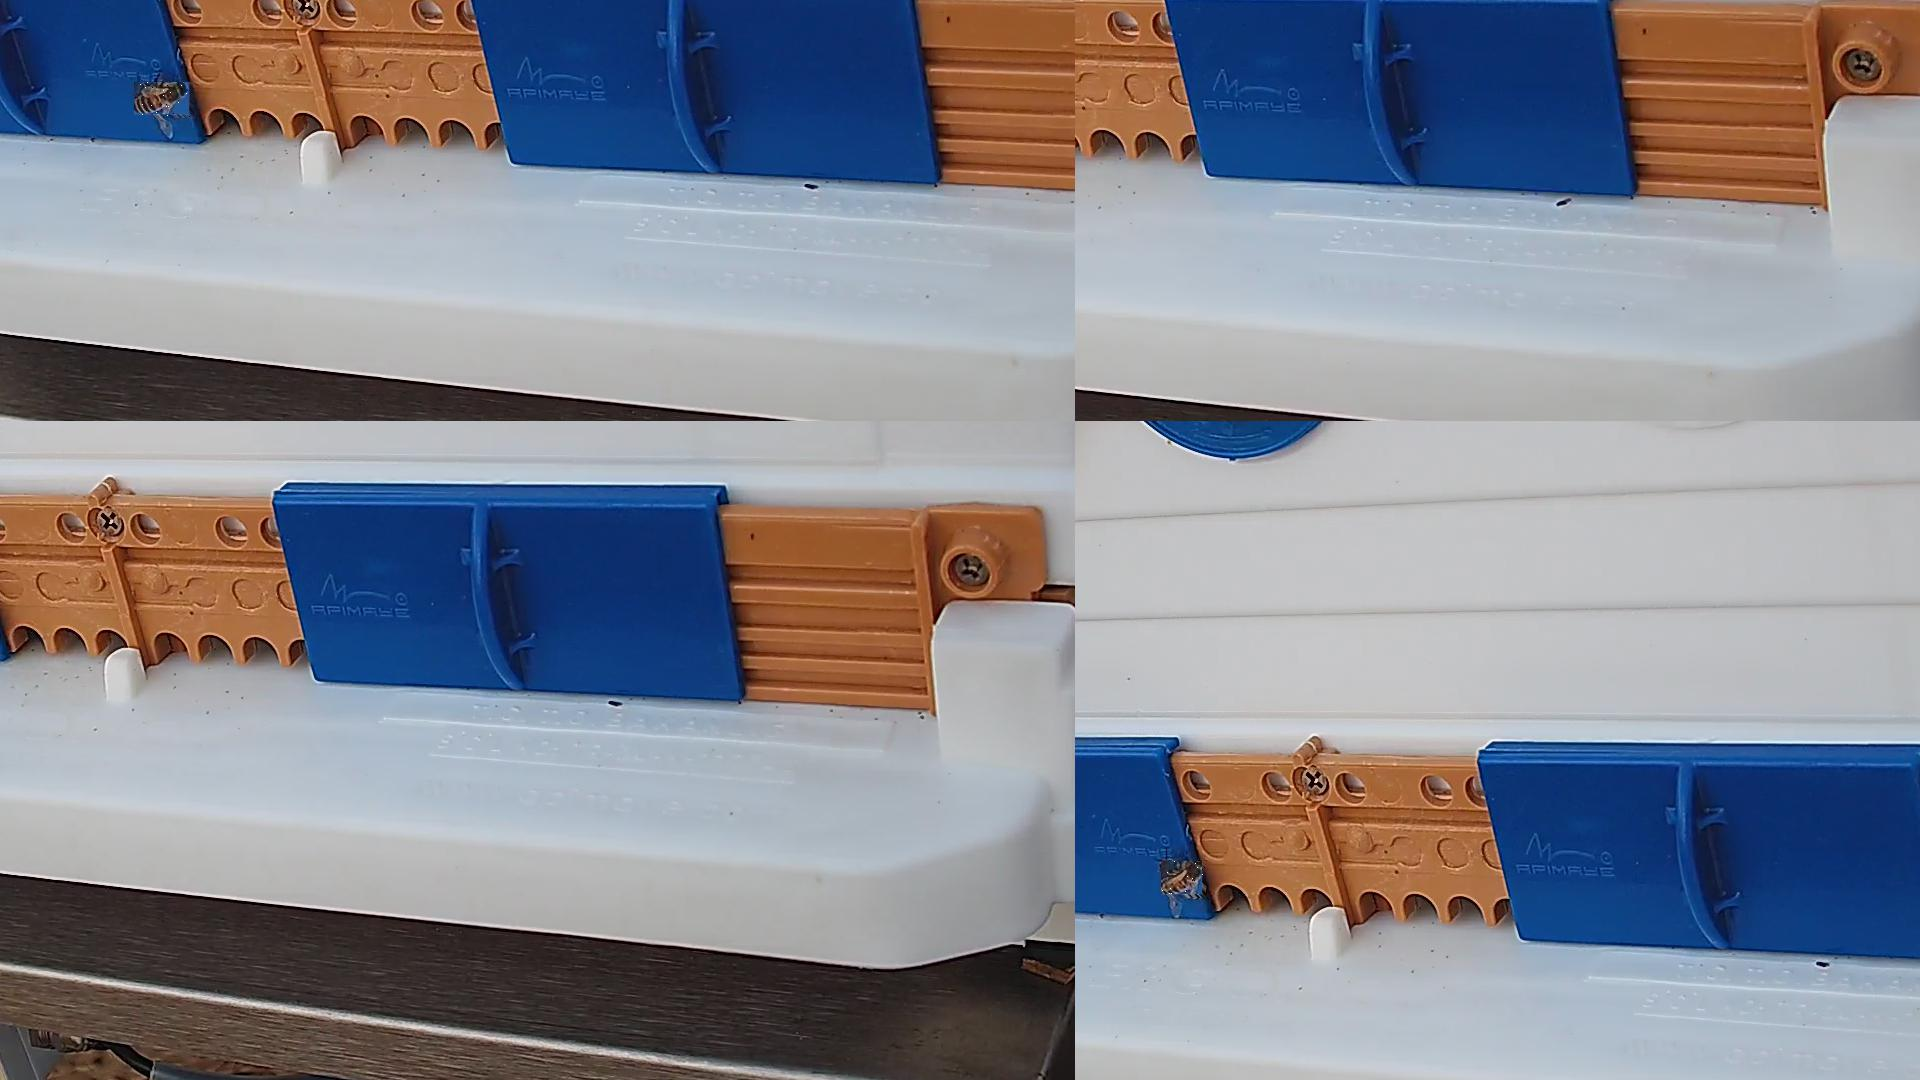bee: (135, 83, 194, 119), (1162, 861, 1207, 899)
